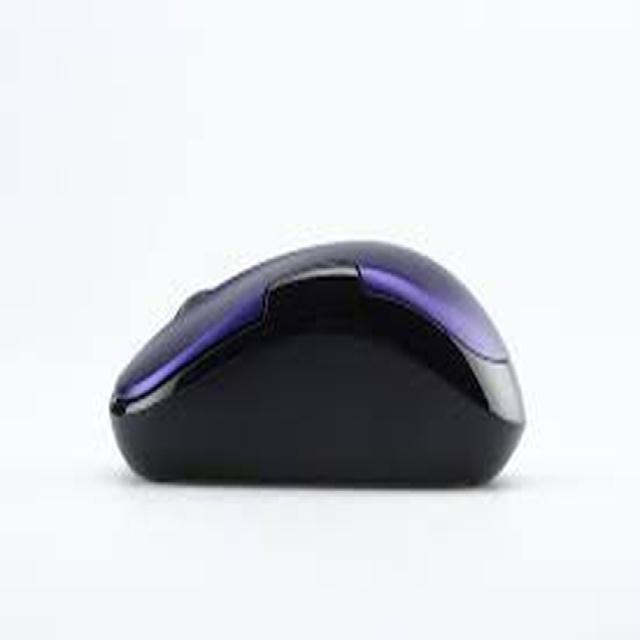mouse: (104, 211, 540, 504)
